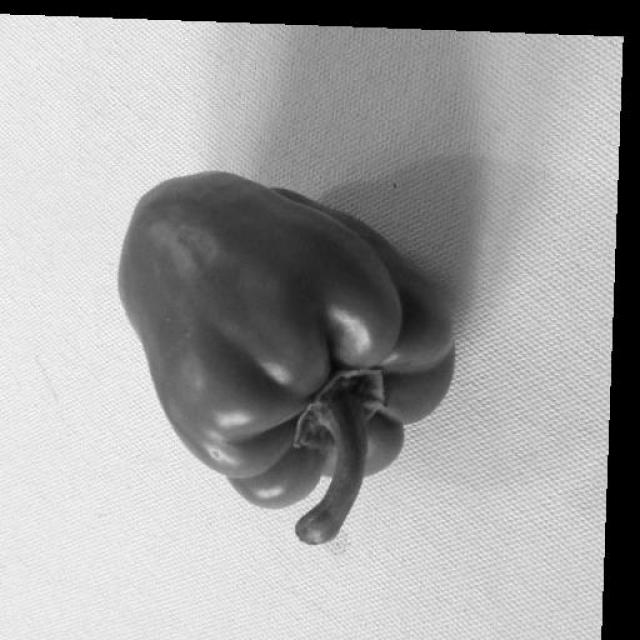Fresh_Capsicum: (114, 179, 449, 540)
